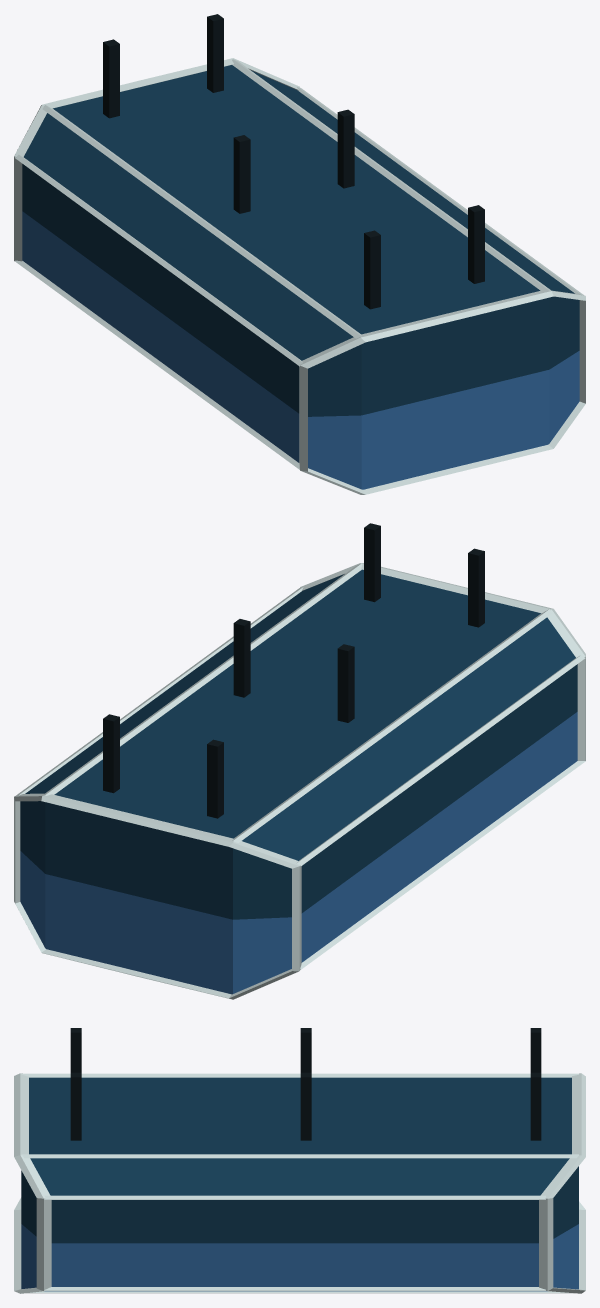
The model's file is Freighter_Cargo.03.fbx.
3 views of the same model, one above another, from view 1: azimuth 30°, elevation 25°; view 2: azimuth 150°, elevation 25°; view 3: azimuth 270°, elevation 25° (orthographic). The views are drawn at different scales.
Parts seen in each view (by area): view 1: CruiserCargo_03_LOD0; view 2: CruiserCargo_03_LOD0; view 3: CruiserCargo_03_LOD0.
Boxes of the visible parts, box(x1,y1,x2,y2) form: CruiserCargo_03_LOD0: box(14, 14, 585, 494); CruiserCargo_03_LOD0: box(14, 523, 585, 999); CruiserCargo_03_LOD0: box(14, 1028, 585, 1293).
Size of what is drawn, in the model's own units: 3084 by 2339 by 6054.
Materials: 1 (1 with a texture image).
